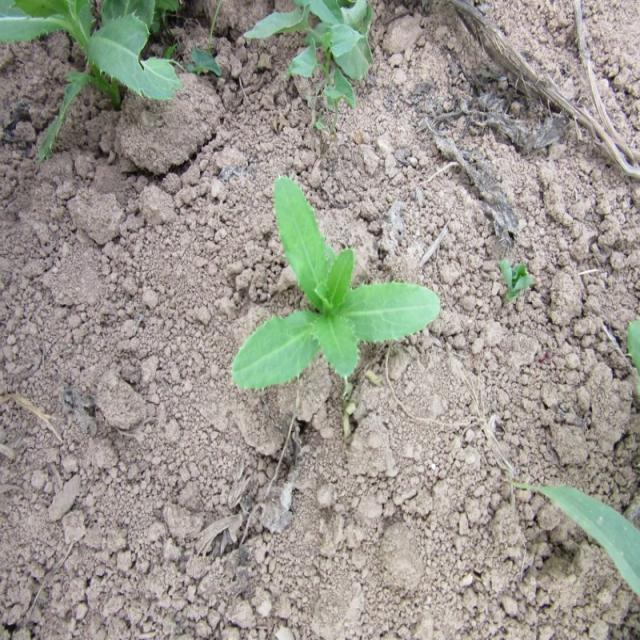field_thistle: (224, 150, 446, 422)
